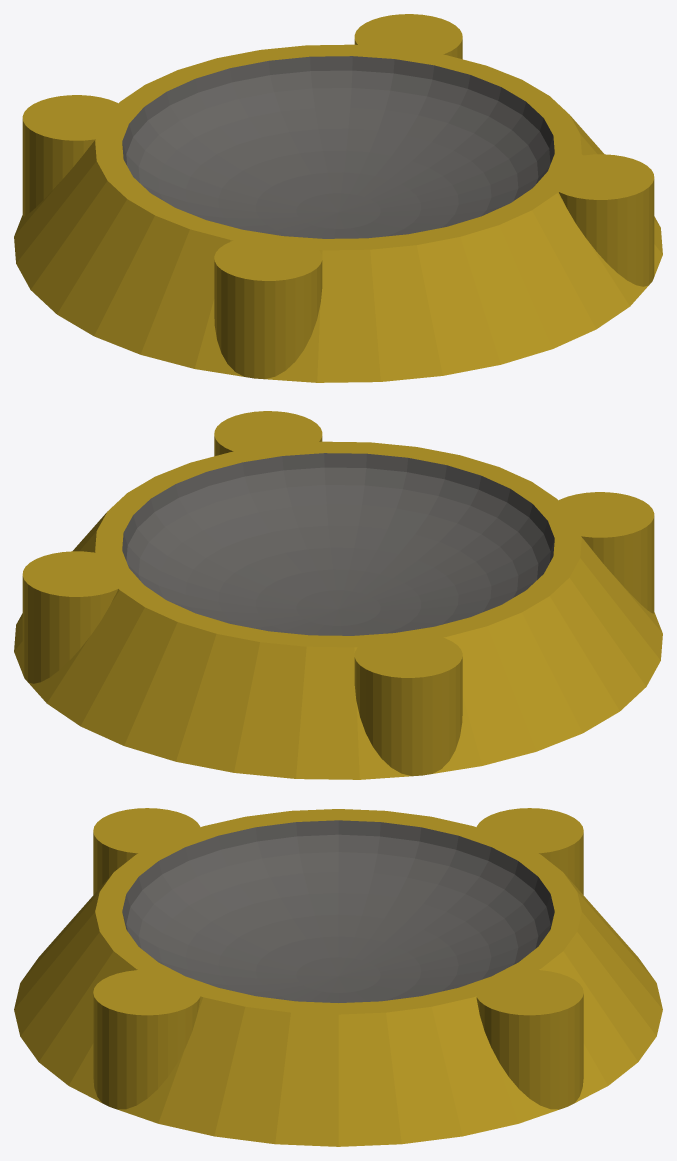
The model's file is LandBunkerWreck.dae.
3 renders of one model, top to bottom at view 1: azimuth 30°, elevation 25°; view 2: azimuth 150°, elevation 25°; view 3: azimuth 270°, elevation 25°, orthographic.
Parts seen in each view (by area): view 1: Cylinder, Cylinder.004, Cylinder.003, Cylinder.002, Cylinder.001; view 2: Cylinder, Cylinder.002, Cylinder.001, Cylinder.004, Cylinder.003; view 3: Cylinder, Cylinder.001, Cylinder.003, Cylinder.004, Cylinder.002.
Part boxes in pixels (bbox=[...]): Cylinder: bbox=[14, 44, 662, 382]; Cylinder.004: bbox=[214, 235, 322, 379]; Cylinder.003: bbox=[549, 154, 654, 286]; Cylinder.002: bbox=[22, 95, 117, 216]; Cylinder.001: bbox=[354, 14, 462, 59]; Cylinder: bbox=[14, 441, 662, 779]; Cylinder.002: bbox=[354, 634, 462, 776]; Cylinder.001: bbox=[22, 551, 129, 683]; Cylinder.004: bbox=[546, 492, 654, 613]; Cylinder.003: bbox=[214, 411, 322, 456]; Cylinder: bbox=[14, 809, 662, 1146]; Cylinder.001: bbox=[476, 969, 583, 1109]; Cylinder.003: bbox=[93, 970, 200, 1109]; Cylinder.004: bbox=[93, 808, 201, 894]; Cylinder.002: bbox=[476, 808, 583, 894].
Bounding box in the file's own units: 7.5 × 7.5 × 1.25.
